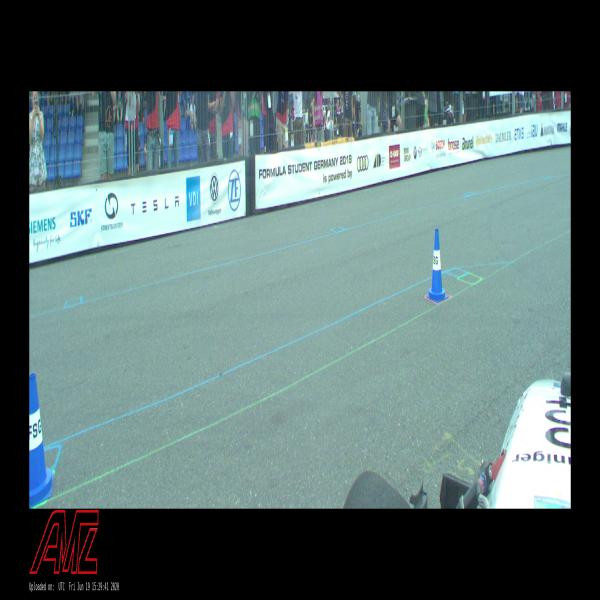blue_cone: (29, 373, 54, 509), (426, 229, 448, 302)
